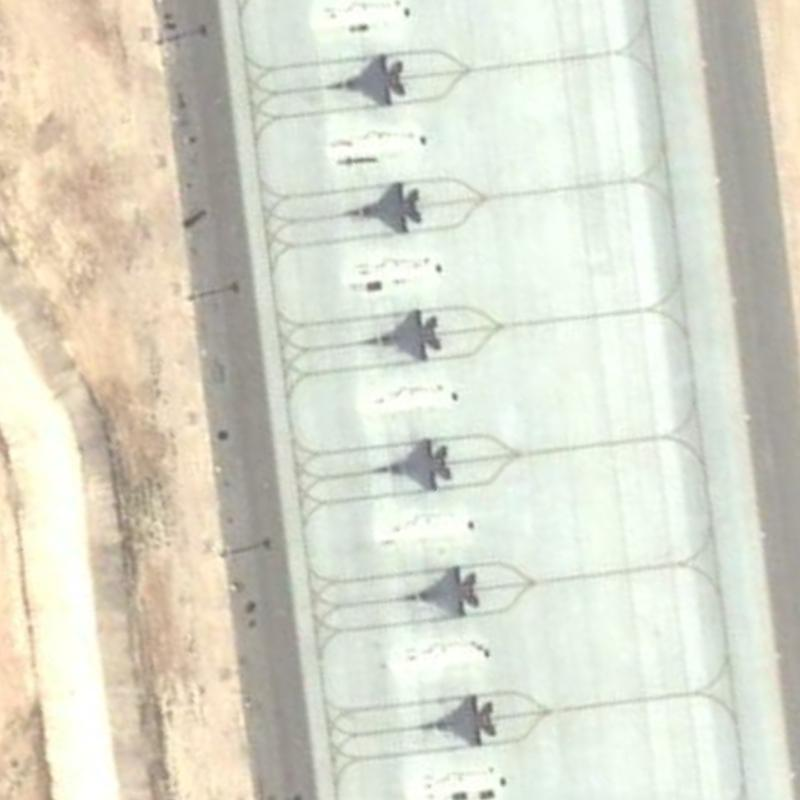A5: (314, 46, 414, 110), (362, 433, 460, 497), (352, 303, 447, 369), (409, 689, 505, 754), (342, 174, 430, 240), (396, 563, 484, 615)
